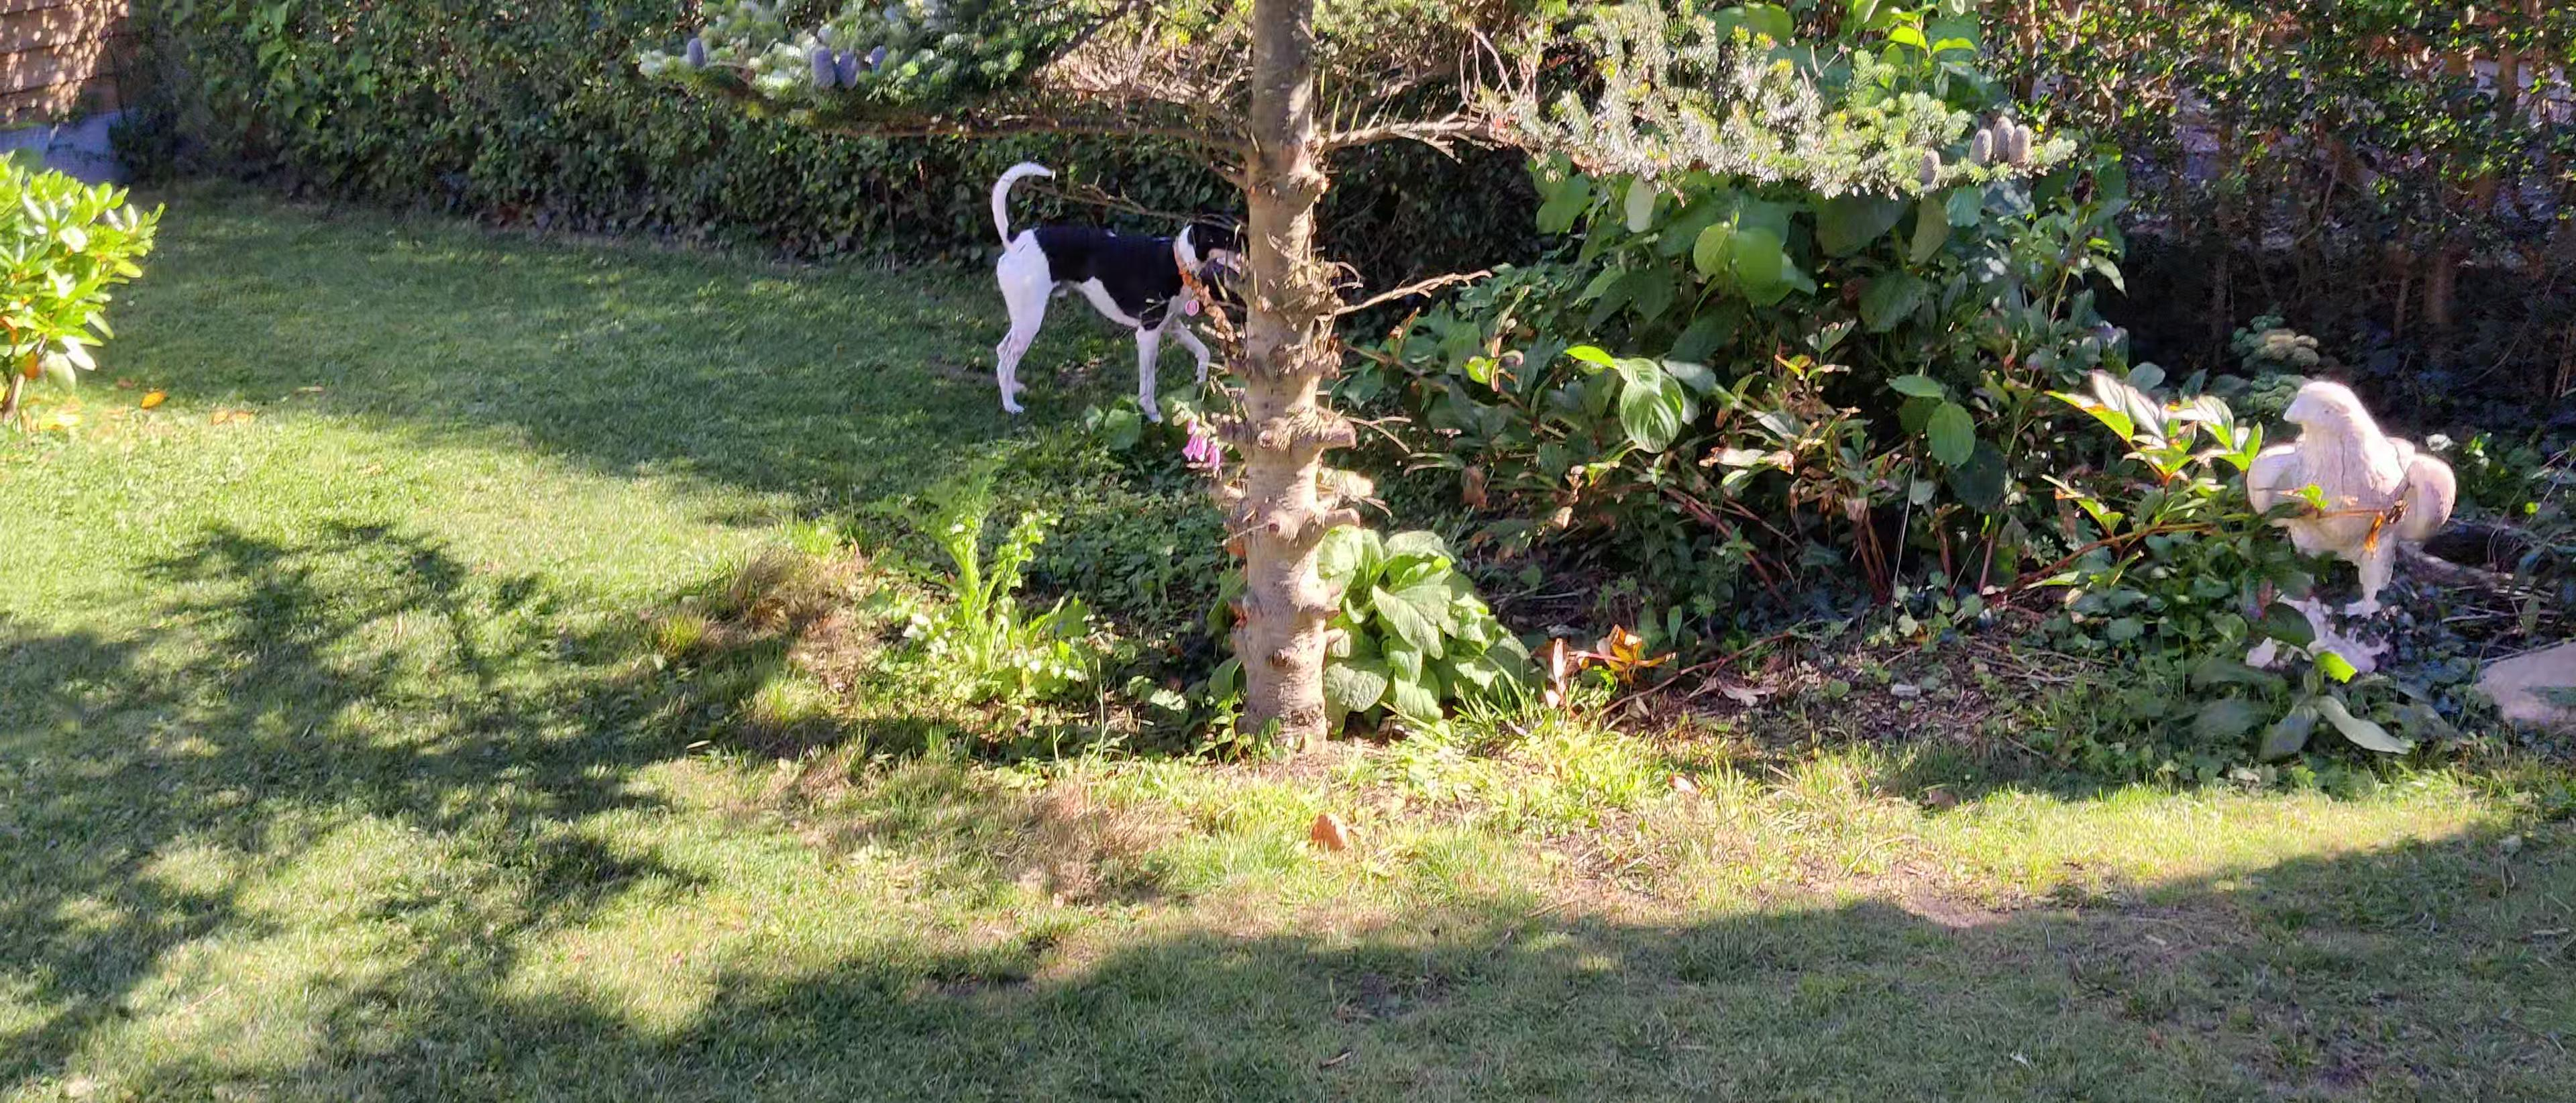Dog: (986, 159, 1258, 424)
